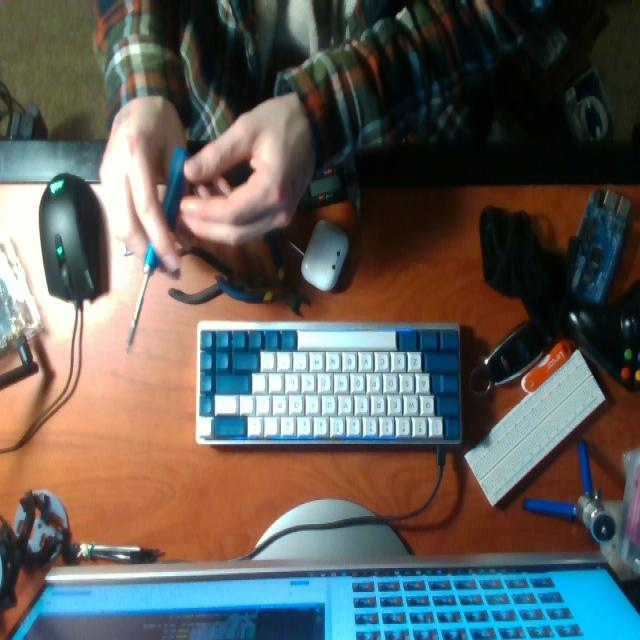keyboard: (195, 322, 462, 442)
